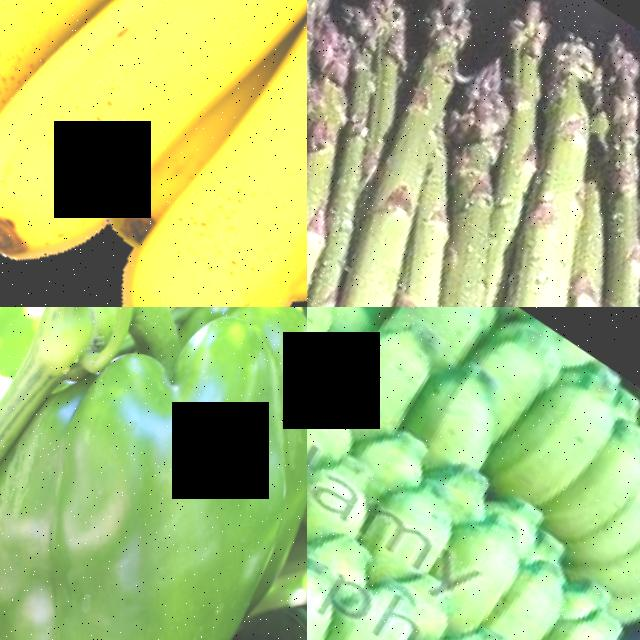asparagus: (357, 24, 640, 307), (307, 0, 542, 307), (496, 88, 640, 307), (307, 0, 377, 307)
banana: (307, 319, 640, 640), (307, 307, 640, 601), (0, 0, 307, 307), (307, 413, 606, 640)
bell pepper: (0, 307, 307, 640)
